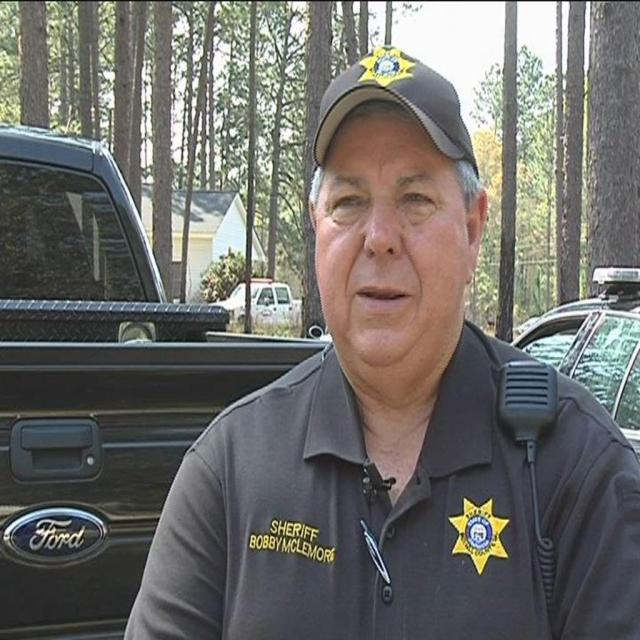Face: (307, 114, 484, 406)
